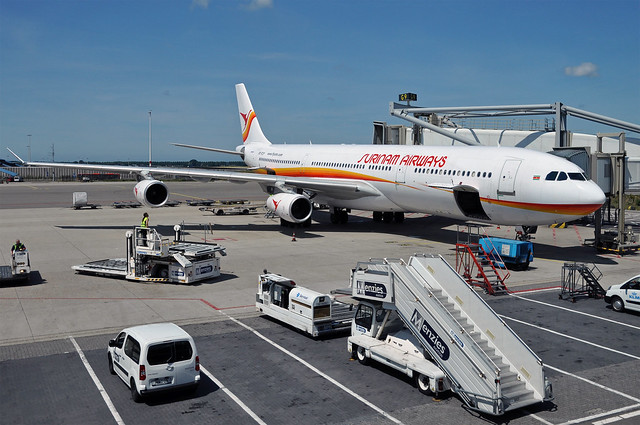car: (108, 322, 201, 402), (604, 273, 640, 313)
